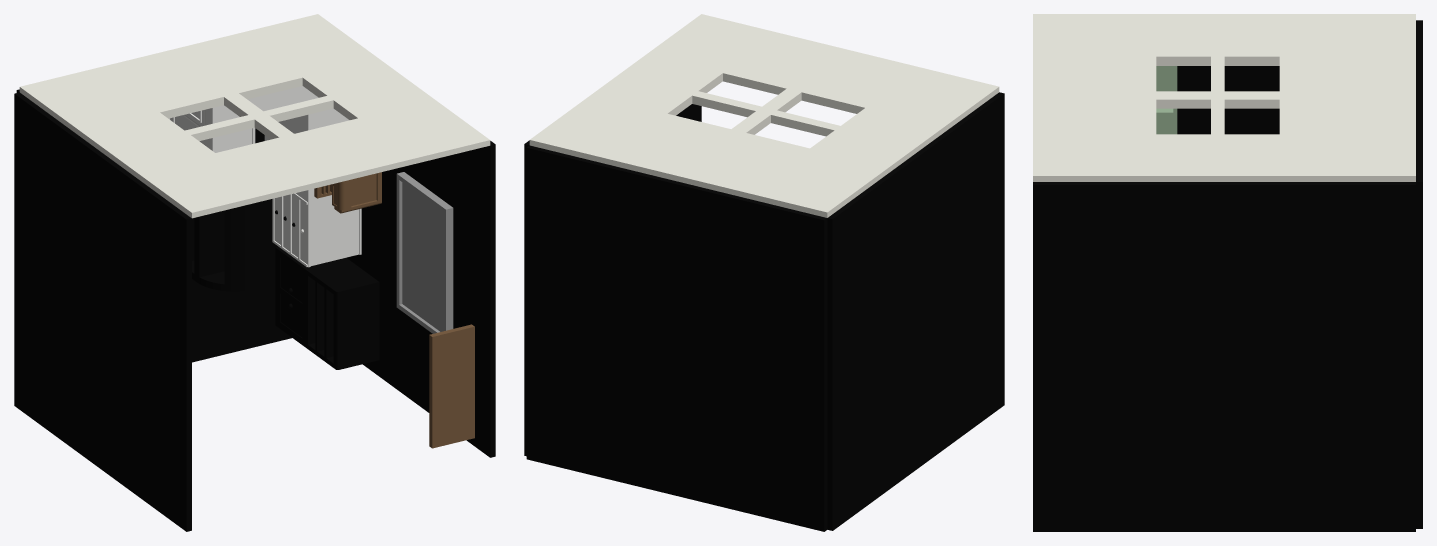
File: Mochi Assembly.obj
The picture shows the model from 3 angles, left to right: view 1: azimuth 30°, elevation 25°; view 2: azimuth 150°, elevation 25°; view 3: azimuth 270°, elevation 25°; orthographic projection. The views are drawn at different scales.
Visible parts, largest first — view 1: Body1:1, Body1:10, Body1:2, Body1:7, Body1:3, Body1:9, Body1:8, Body1, Body1:12, Body1:11, Body2:2; view 2: Body1, Body1:1, Body1:10, Body1:2, Body2:2; view 3: Body1:2, Body1:10, Body1:1, Body1, Body2:2, Body2:4.
Part boxes in pixels (box(x1,y1,x2,y2)): Body1:1: box(14, 92, 191, 531); Body1:10: box(19, 14, 490, 218); Body1:2: box(346, 141, 495, 457); Body1:7: box(275, 246, 379, 369); Body1:3: box(169, 86, 361, 267); Body1:9: box(396, 172, 453, 333); Body1:8: box(192, 199, 272, 291); Body1: box(16, 89, 291, 362); Body1:12: box(429, 324, 474, 448); Body1:11: box(314, 172, 381, 213); Body2:2: box(166, 83, 351, 141); Body1: box(526, 145, 827, 531); Body1:1: box(827, 92, 1004, 530); Body1:10: box(529, 14, 999, 217); Body1:2: box(524, 104, 701, 456); Body2:2: box(674, 79, 859, 136); Body1:2: box(1033, 182, 1415, 531); Body1:10: box(1033, 14, 1415, 181); Body1:1: box(1177, 66, 1279, 134); Body1: box(1416, 20, 1422, 528); Body2:2: box(1156, 63, 1279, 108); Body2:4: box(1156, 66, 1177, 114).
Bounding box in the file's own units: 14.5 × 14.25 × 14.25.
